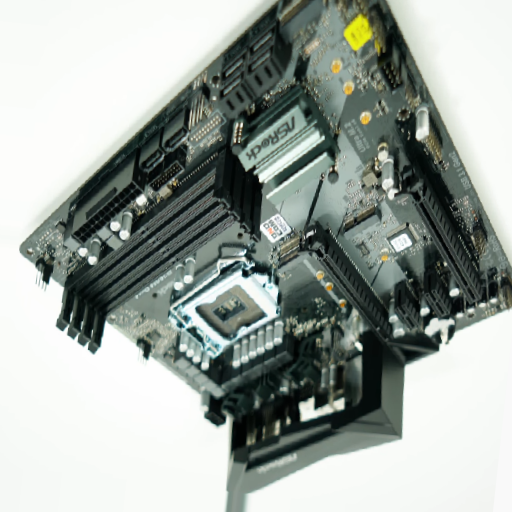CPU: (172, 247, 284, 357)
GPU: (392, 165, 482, 304), (296, 227, 392, 346)
MOTHERBOARD: (17, 3, 507, 431)
RAM: (57, 147, 262, 357)
SSD: (339, 206, 385, 235), (267, 235, 301, 266)
